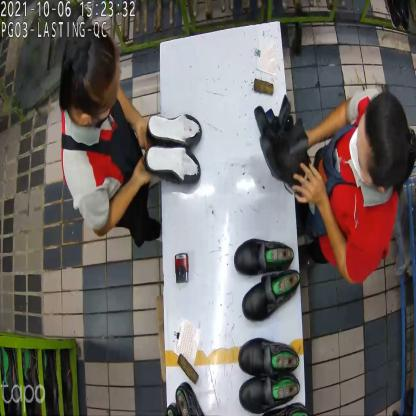shoes: (253, 93, 313, 195), (232, 240, 299, 317), (241, 334, 303, 416), (144, 111, 204, 185)
stamp: (172, 252, 192, 284)
